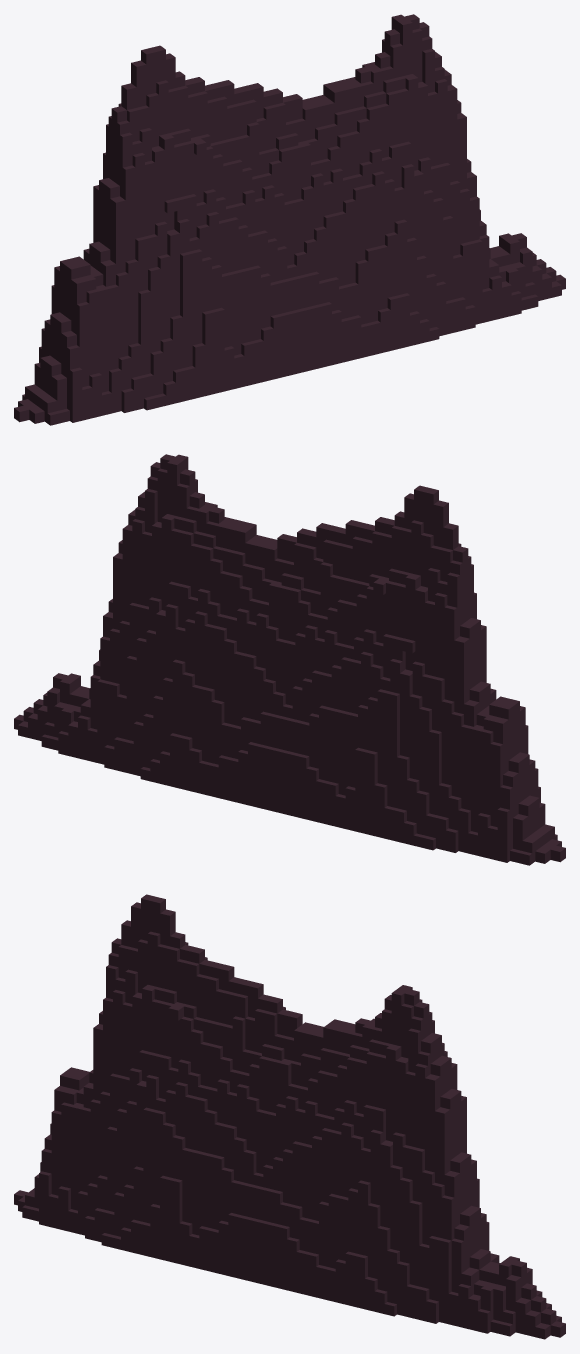
Rendered from large_mountain.fbx.
3 views of the same model, one above another, from view 1: azimuth 30°, elevation 25°; view 2: azimuth 150°, elevation 25°; view 3: azimuth 330°, elevation 25° (orthographic).
Parts seen in each view (by area): view 1: generated; view 2: generated; view 3: generated.
Part boxes in pixels (box(x1,y1,x2,y2)): generated: box(14, 14, 565, 425); generated: box(14, 454, 565, 865); generated: box(14, 894, 565, 1339).
Size of the model in its own units: 560 by 330 by 80.
